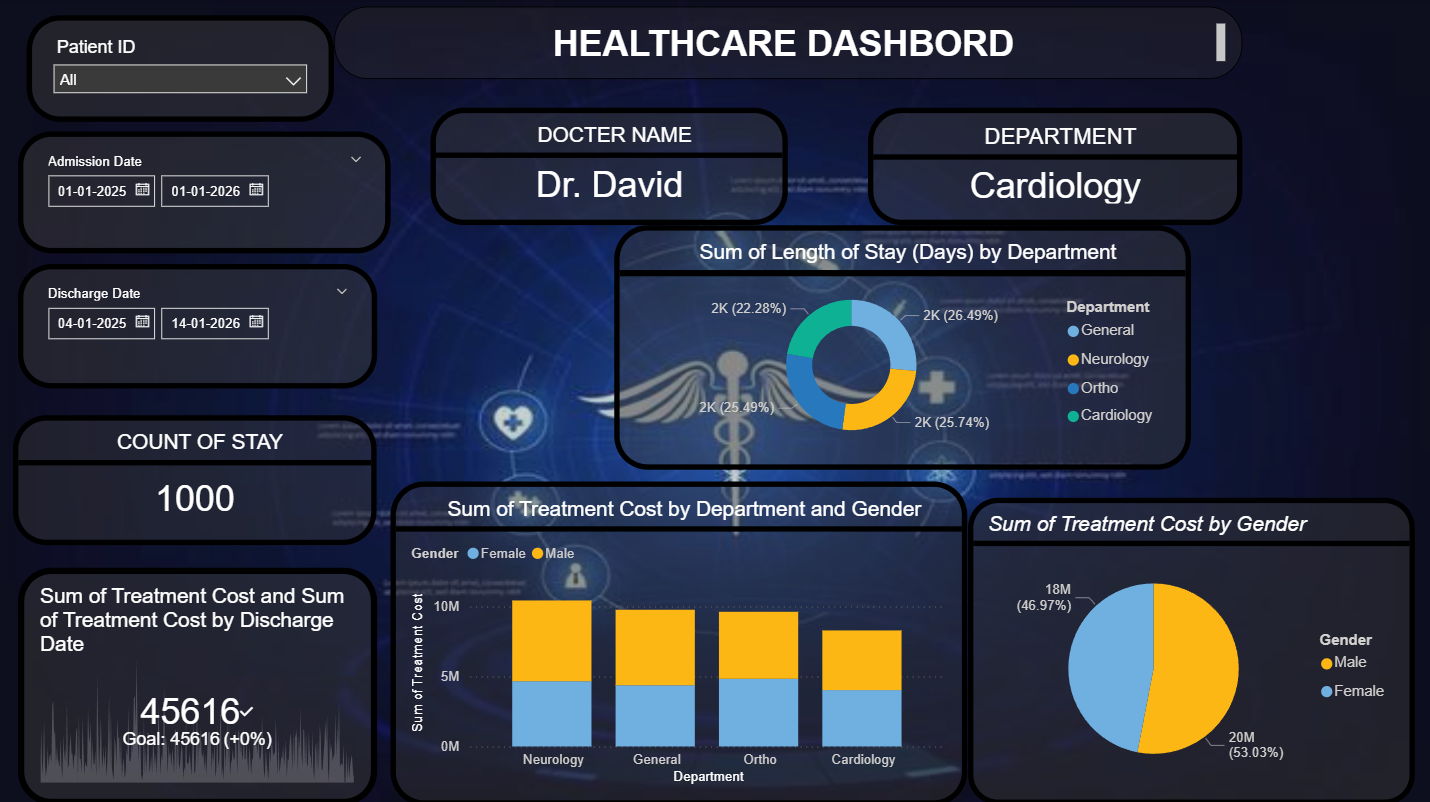

The page's visual inventory and layout, read from the dashboard file:
{"tool":"powerbi","page":{"name":"Page 1","canvas":[1280,720],"ordinal":0},"visuals":[{"type":"card","title":"COUNT OF STAY","fields":{"Values":["CountNonNull(Hospital_Data.Length of Stay (Days))"]},"box":[13.7,371.8,324.4,116],"z":0},{"type":"card","title":"DOCTER NAME","fields":{"Values":["Min(Hospital_Data.Doctor Name)"]},"box":[386.8,97.3,319.4,104.8],"z":1000},{"type":"slicer","fields":{"Values":["Hospital_Data.Patient ID"]},"box":[26.2,15,274.5,94.8],"z":2000},{"type":"pieChart","fields":{"Category":["Hospital_Data.Gender"],"Y":["Sum(Hospital_Data.Treatment Cost)"]},"box":[866,445.5,399.3,274.5],"z":3000},{"type":"donutChart","fields":{"Category":["Hospital_Data.Department"],"Y":["Sum(Hospital_Data.Length of Stay (Days))"]},"box":[550,202.3,515.1,218.6],"z":4000},{"type":"textbox","box":[300.7,6.2,811.1,64.9],"z":5000},{"type":"card","title":"DEPARTMENT","fields":{"Values":["Min(Hospital_Data.Department)"]},"box":[777.4,97.3,334.4,104.8],"z":6000},{"type":"columnChart","fields":{"Category":["Hospital_Data.Department"],"Y":["Sum(Hospital_Data.Treatment Cost)"],"Series":["Hospital_Data.Gender"]},"box":[350.6,430.5,515.3,289.5],"z":7000},{"type":"slicer","fields":{"Values":["Hospital_Data.Discharge Date"]},"box":[17.5,237.1,320.7,111.1],"z":8000},{"type":"kpi","fields":{"Indicator":["Sum(Hospital_Data.Treatment Cost)"],"Goal":["Sum(Hospital_Data.Treatment Cost)"],"TrendLine":["Hospital_Data.Discharge Date"]},"box":[17.5,507.9,320.7,212.1],"z":9000},{"type":"slicer","fields":{"Values":["Hospital_Data.Admission Date"]},"box":[17.5,118.5,333.2,108.6],"z":10000}]}

Visuals, with their boxes in screenshot pixels (x1, y1, x2, y2), scaled from the page's 1280x720 canvas onto the 1430x802 screenshot:
"COUNT OF STAY" card: box(15, 414, 378, 543)
"DOCTER NAME" card: box(432, 108, 789, 225)
slicer - Hospital_Data.Patient ID: box(29, 17, 336, 122)
pieChart - Hospital_Data.Gender x Sum(Hospital_Data.Treatment Cost): box(967, 496, 1414, 801)
donutChart - Hospital_Data.Department x Sum(Hospital_Data.Length of Stay (Days)): box(614, 225, 1190, 469)
textbox: box(336, 7, 1242, 79)
"DEPARTMENT" card: box(869, 108, 1242, 225)
columnChart - Hospital_Data.Department x Sum(Hospital_Data.Treatment Cost): box(392, 480, 967, 801)
slicer - Hospital_Data.Discharge Date: box(20, 264, 378, 388)
kpi - Sum(Hospital_Data.Treatment Cost) x Sum(Hospital_Data.Treatment Cost): box(20, 566, 378, 801)
slicer - Hospital_Data.Admission Date: box(20, 132, 392, 253)
